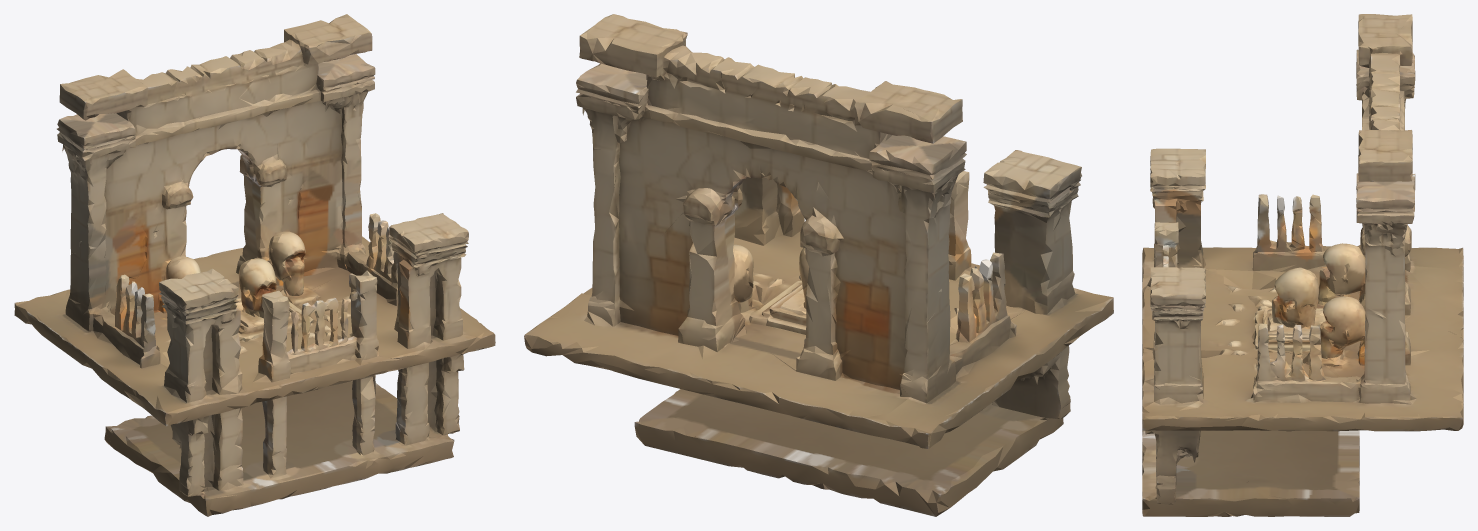
File: undead_barracks.glb
3 renders of one model, left to right at view 1: azimuth 30°, elevation 25°; view 2: azimuth 150°, elevation 25°; view 3: azimuth 270°, elevation 25°, orthographic. The views are drawn at different scales.
Parts seen in each view (by area): view 1: undead_barracks; view 2: undead_barracks; view 3: undead_barracks.
Boxes of the visible parts, x1,y1,x2,y2 form: undead_barracks: (14,14,495,516); undead_barracks: (524,14,1113,516); undead_barracks: (1142,14,1463,516).
Size of the model in its own units: 1.89 by 1.9 by 1.51.
1 material, 1 textured.
